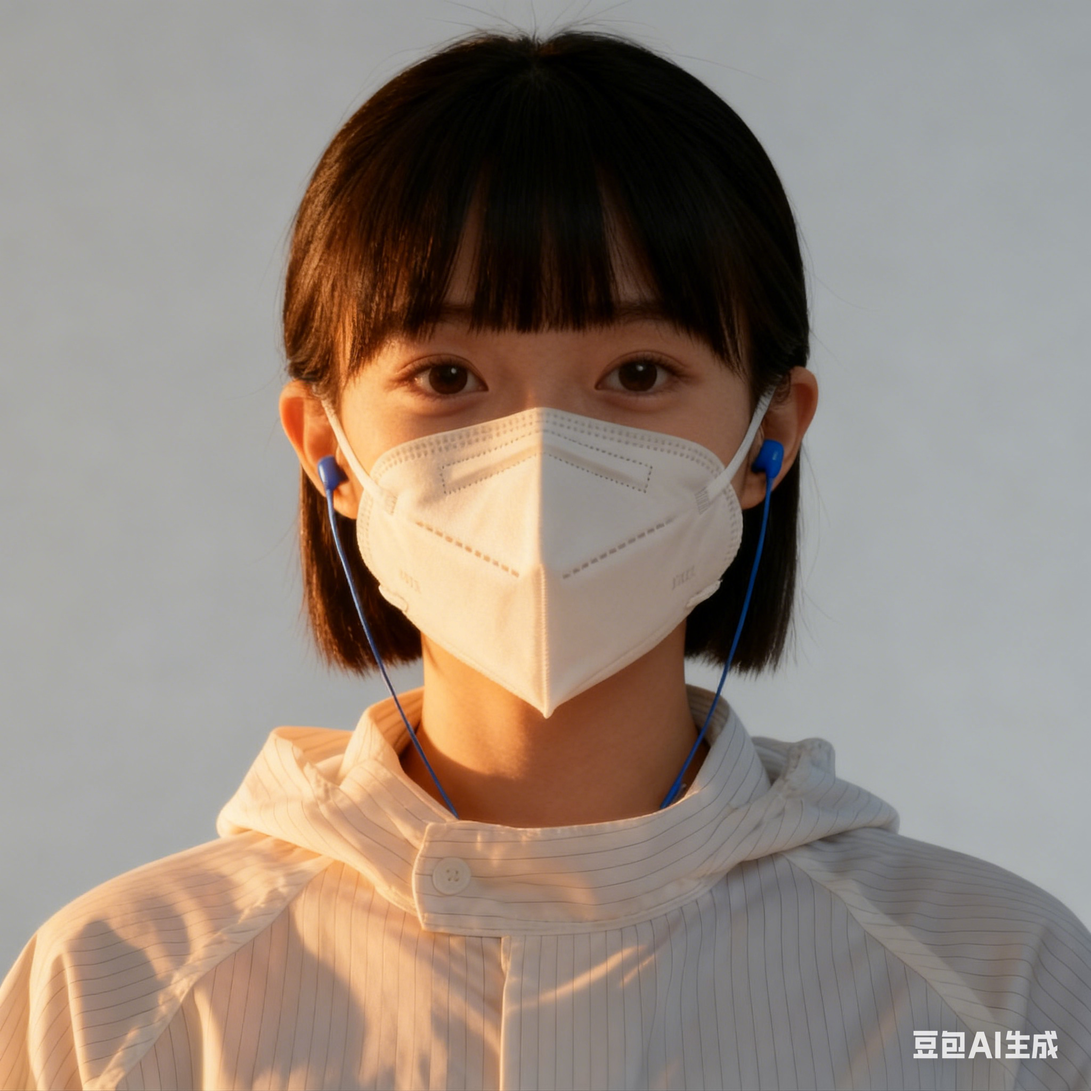MASK: (349, 409, 740, 705)
